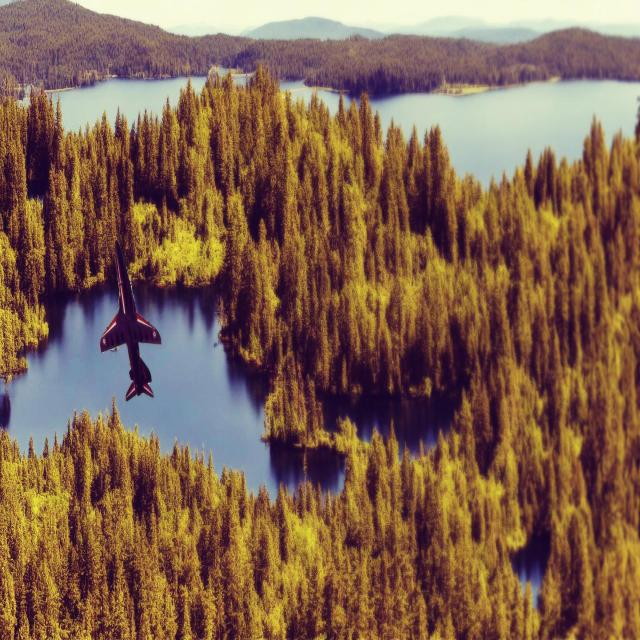airplane: (99, 239, 162, 401)
